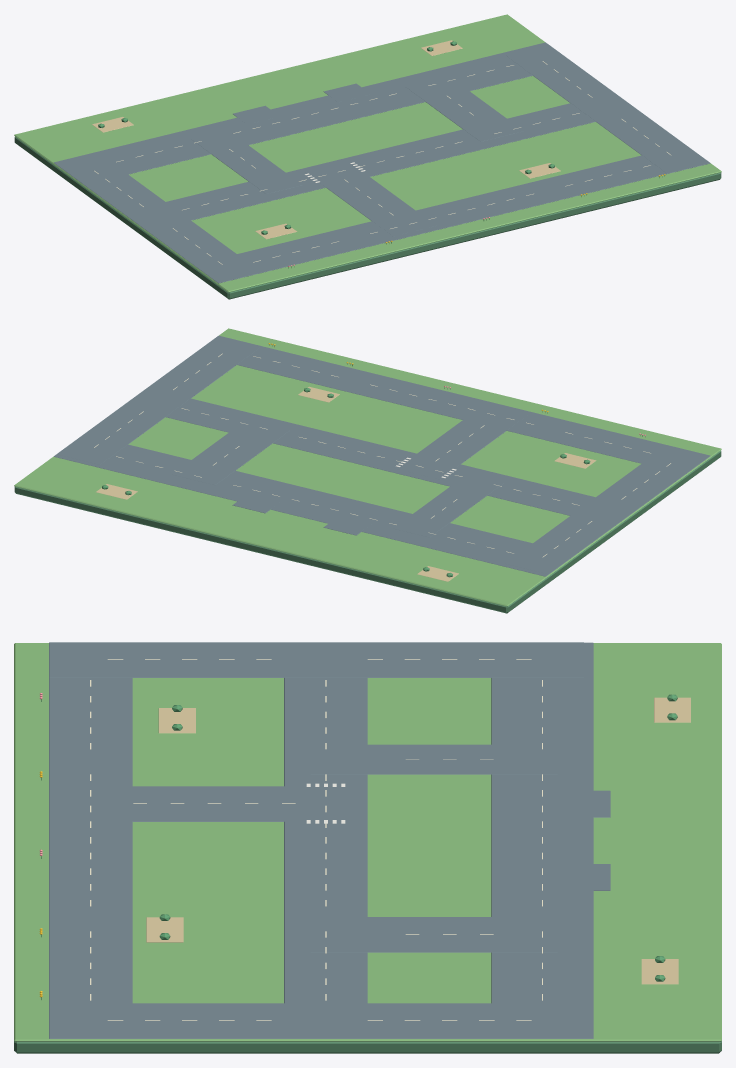
Rendered from rect-ground.glb.
3 renders of one model, top to bottom at view 1: azimuth 30°, elevation 25°; view 2: azimuth 150°, elevation 25°; view 3: azimuth 270°, elevation 25°, orthographic. The views are drawn at different scales.
Visible parts, largest first — view 1: RectGround; view 2: RectGround; view 3: RectGround.
Boxes of the visible parts, box(x1,y1,x2,y2) form: RectGround: box(14, 14, 721, 299); RectGround: box(14, 328, 721, 613); RectGround: box(14, 642, 721, 1053).
Size of the model in its own units: 76 by 1.89 by 57.2.
